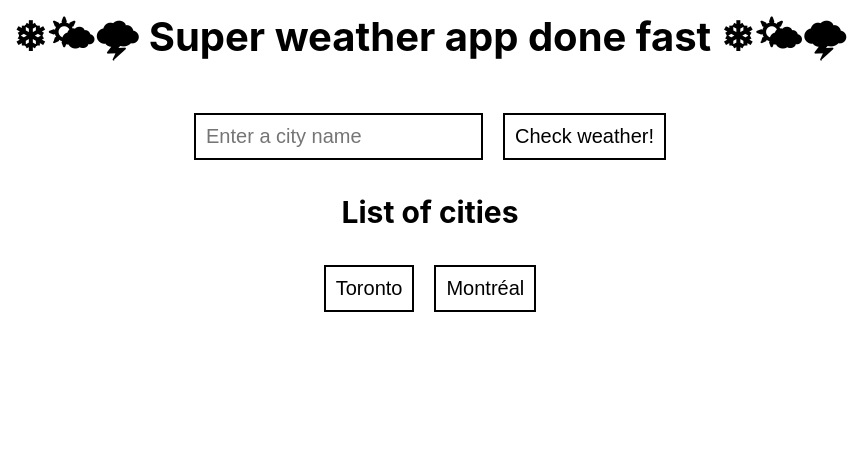
it: Weather app flow › should load the initial page, clicking on city should show current weather
The width and height of the screenshot is (864, 461).
Step 1. Click the button named "Toronto" → x=370, y=289, box top-left (324, 265), bottom-right (415, 312)
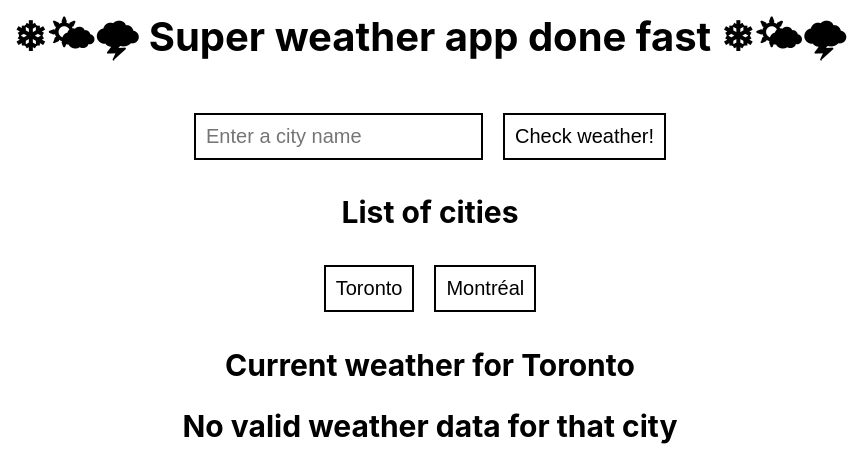
Check: the text "Current weather for" is shown, box top-left (225, 347), bottom-right (521, 383)
Check: the text "Toronto" is shown, box top-left (521, 347), bottom-right (635, 383)
Step 2. Click the button named "Montréal" → x=486, y=289, box top-left (435, 265), bottom-right (537, 312)
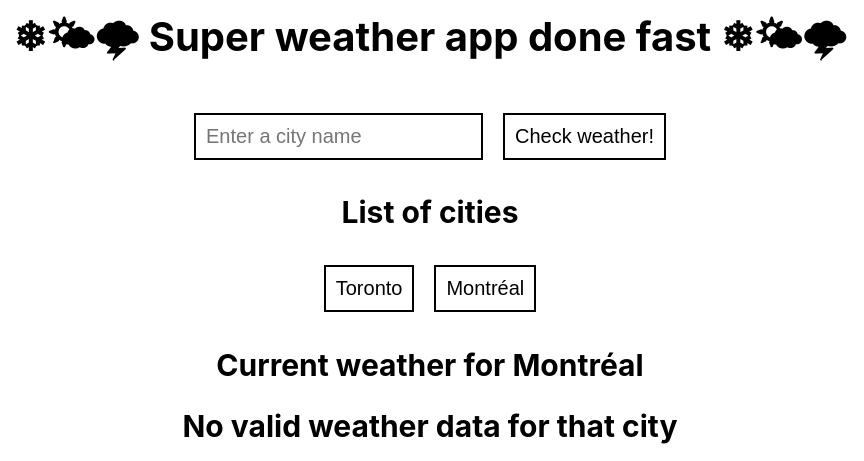
Check: the text "Current weather for" is shown, box top-left (216, 347), bottom-right (512, 383)
Check: the text "Montréal" is shown, box top-left (512, 347), bottom-right (644, 383)
